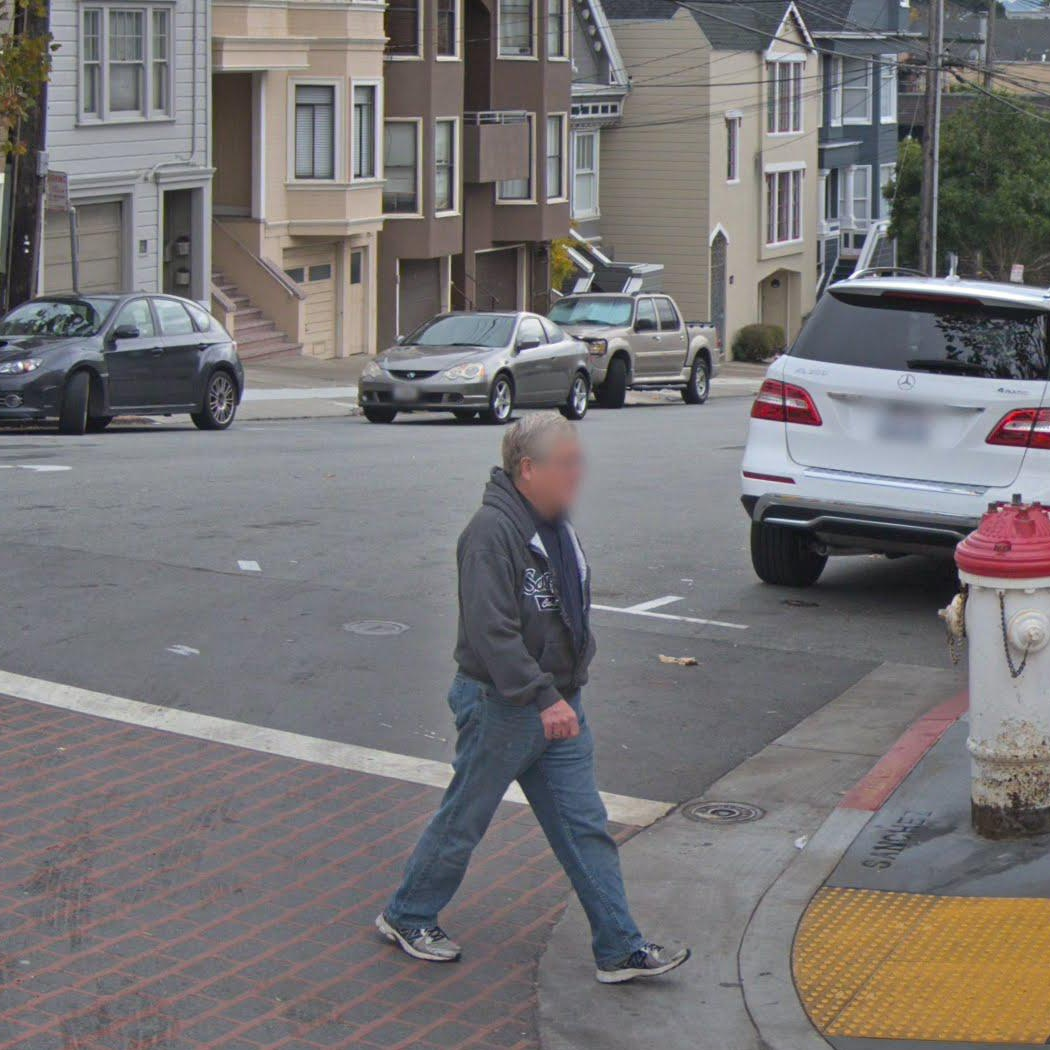No Parking: (44, 170, 70, 213)
